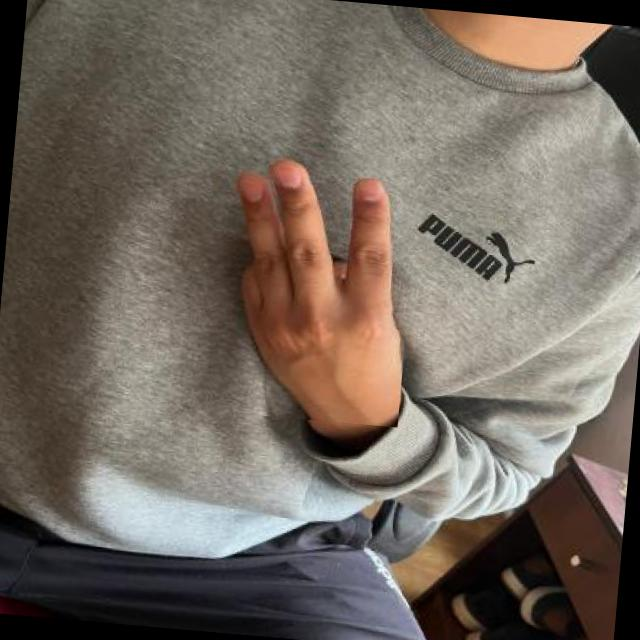W: (204, 142, 420, 428)
